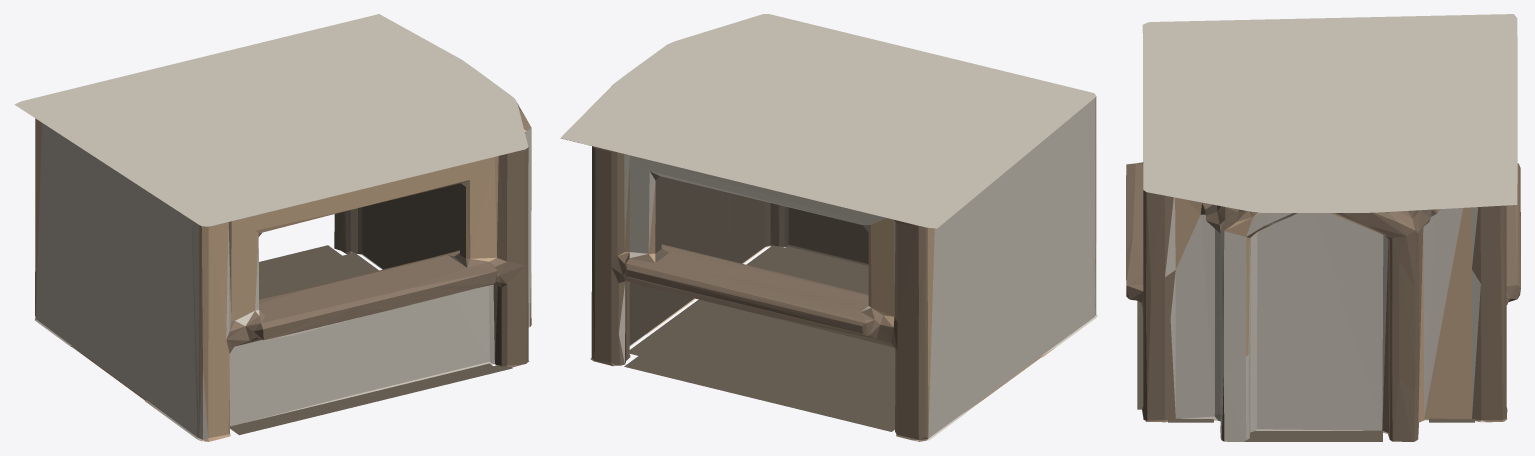
Rendered from etape-1.glb.
3 views of the same model, side by side, from view 1: azimuth 30°, elevation 25°; view 2: azimuth 150°, elevation 25°; view 3: azimuth 270°, elevation 25° (orthographic). The views are drawn at different scales.
Parts seen in each view (by area): view 1: geometry_0; view 2: geometry_0; view 3: geometry_0.
Part boxes in pixels (box(x1,y1,x2,y2)): geometry_0: box(14, 14, 531, 441); geometry_0: box(560, 14, 1097, 441); geometry_0: box(1126, 14, 1520, 441).
Size of the model in its own units: 0.8575 by 0.4573 by 0.7146.
